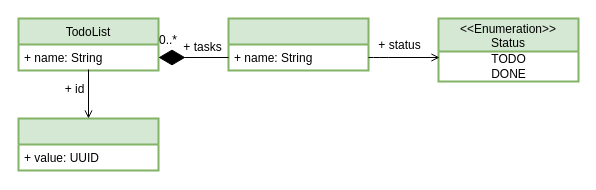
This 596x190 diagram has some shape labels left out. The shapes that lost their labels are listed below. From the top down, each one's box as (x1, y1, x2, y2) in pixels, then its label:
(227, 17, 369, 71): Task
(17, 117, 159, 171): TodoListId
